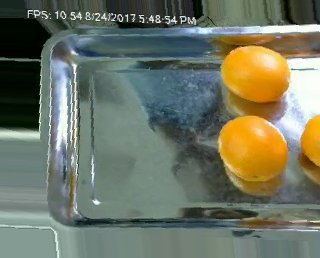Orange: (218, 114, 289, 181), (220, 46, 291, 103)
